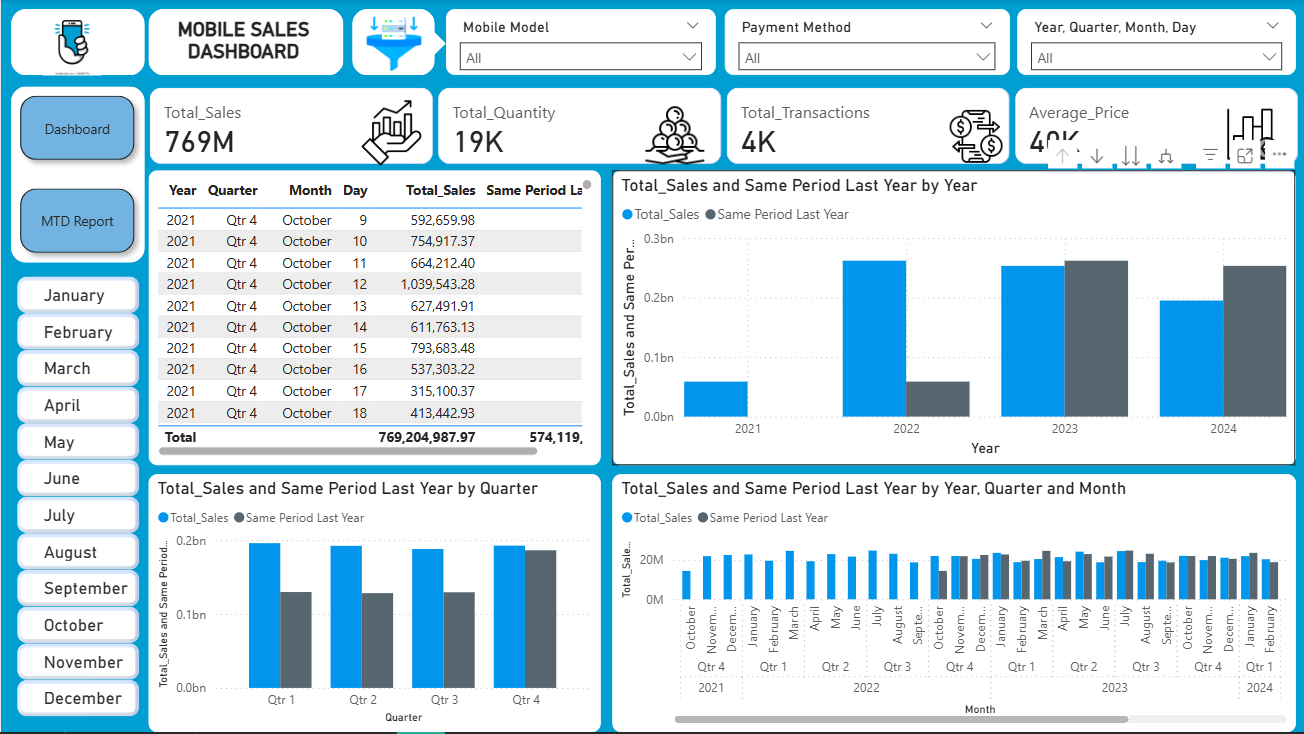

Layout of this report page (visuals, bound fields, positions):
{"tool":"powerbi","page":{"name":"Dashboard","canvas":[1280,720],"ordinal":0},"visuals":[{"type":"shape","box":[9.8,9.8,131.3,65],"z":0},{"type":"shape","box":[10.3,267.9,130.8,434.6],"z":1000},{"type":"shape","box":[9.8,85.9,131.3,173],"z":2000},{"type":"advancedSlicerVisual","fields":{"Values":["Custom_Calender.Date.Variation.Date Hierarchy.Month"]},"box":[11,267.5,130.1,442.9],"z":3000},{"type":"cardVisual","fields":{"Data":["Sales_Data.Total_Sales","Sales_Data.Total_Quantity","Sales_Data.Total_Transactions","Sales_Data.Average_Price"]},"box":[141.1,82.2,1138.7,85.9],"z":4000},{"type":"image","box":[11,13.5,117.8,61.4],"z":5000},{"type":"image","box":[630.7,99.4,61.4,68.7],"z":6000},{"type":"image","box":[923.9,108,66.3,54],"z":7000},{"type":"image","box":[1195.1,103.1,67.5,58.9],"z":8000},{"type":"image","box":[349.7,99.4,67.5,63.8],"z":9000},{"type":"shape","box":[144.8,9.8,191.4,65],"z":10000},{"type":"shape","box":[344.8,9.8,81,65],"z":11000},{"type":"shape","box":[397.5,30.7,39.3,25.8],"z":12000},{"type":"image","box":[354.6,17.2,62.6,54],"z":13000},{"type":"textbox","box":[149.7,13.5,176.7,68.7],"z":14000},{"type":"map","title":"Total Sales by City","fields":{"Category":["Sales_Data.City"],"Size":["Sales_Data.Total_Sales"]},"box":[144.8,168.1,381.6,381.6],"z":15000},{"type":"slicer","fields":{"Values":["Sales_Data.Mobile Model"]},"box":[436.8,9.8,265,65],"z":16000},{"type":"slicer","fields":{"Values":["Sales_Data.Brand"]},"box":[997.6,9.8,273.6,65],"z":17000},{"type":"slicer","fields":{"Values":["Sales_Data.Payment Method"]},"box":[710.4,9.8,279.8,65],"z":18000},{"type":"lineChart","fields":{"Y":["Sales_Data.Total_Quantity"],"Category":["Custom_Calender.Date.Variation.Date Hierarchy.Month"]},"box":[535,168.1,736.2,173],"z":19000},{"type":"funnel","title":"Ratings by Rating Status ","fields":{"Y":["CountNonNull(Sales_Data.Customer Ratings)"],"Category":["Sales_Data.Rating Status"]},"box":[535,350.9,315.3,198.8],"z":20000},{"type":"pieChart","title":"Transactions by Payment Method","fields":{"Category":["Sales_Data.Payment Method"],"Y":["Sales_Data.Total_Transactions"]},"box":[858.9,350.9,412.3,198.8],"z":21000},{"type":"clusteredBarChart","fields":{"Y":["Sales_Data.Total_Sales"],"Category":["Sales_Data.Mobile Model"]},"box":[535,559.5,315.3,150.9],"z":22000},{"type":"areaChart","fields":{"Y":["Sales_Data.Total_Sales"],"Category":["Custom_Calender.Day Name"]},"box":[858.9,559.5,412.3,150.9],"z":23000},{"type":"tableEx","fields":{"Values":["Sales_Data.Brand","Sales_Data.Total_Sales","Sales_Data.Total_Transactions"]},"box":[144.8,559.5,382.8,150.9],"z":24000},{"type":"pageNavigator","box":[9.8,87.1,130.1,173],"z":25000}]}

Visuals, with their boxes in screenshot pixels (x1, y1, x2, y2), scaled from the page's 1280x720 canvas onto the 1304x734 screenshot:
shape: left=10, top=10, right=144, bottom=76
shape: left=10, top=273, right=144, bottom=716
shape: left=10, top=88, right=144, bottom=264
advancedSlicerVisual - Custom_Calender.Date.Variation.Date Hierarchy.Month: left=11, top=273, right=144, bottom=724
cardVisual - Sales_Data.Total_Sales x Sales_Data.Total_Quantity: left=144, top=84, right=1303, bottom=171
image: left=11, top=14, right=131, bottom=76
image: left=643, top=101, right=705, bottom=171
image: left=941, top=110, right=1009, bottom=165
image: left=1218, top=105, right=1286, bottom=165
image: left=356, top=101, right=425, bottom=166
shape: left=148, top=10, right=343, bottom=76
shape: left=351, top=10, right=434, bottom=76
shape: left=405, top=31, right=445, bottom=58
image: left=361, top=18, right=425, bottom=73
textbox: left=153, top=14, right=333, bottom=84
"Total Sales by City" map: left=148, top=171, right=536, bottom=560
slicer - Sales_Data.Mobile Model: left=445, top=10, right=715, bottom=76
slicer - Sales_Data.Brand: left=1016, top=10, right=1295, bottom=76
slicer - Sales_Data.Payment Method: left=724, top=10, right=1009, bottom=76
lineChart - Sales_Data.Total_Quantity x Custom_Calender.Date.Variation.Date Hierarchy.Month: left=545, top=171, right=1295, bottom=348
"Ratings by Rating Status " funnel: left=545, top=358, right=866, bottom=560
"Transactions by Payment Method" pieChart: left=875, top=358, right=1295, bottom=560
clusteredBarChart - Sales_Data.Total_Sales x Sales_Data.Mobile Model: left=545, top=570, right=866, bottom=724
areaChart - Sales_Data.Total_Sales x Custom_Calender.Day Name: left=875, top=570, right=1295, bottom=724
tableEx - Sales_Data.Brand x Sales_Data.Total_Sales: left=148, top=570, right=537, bottom=724
pageNavigator: left=10, top=89, right=143, bottom=265
